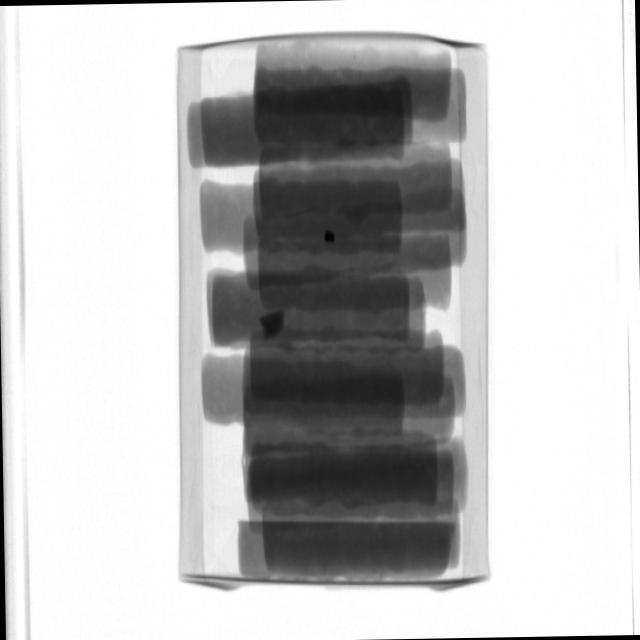ym: (261, 311, 287, 341), (325, 232, 335, 244)
